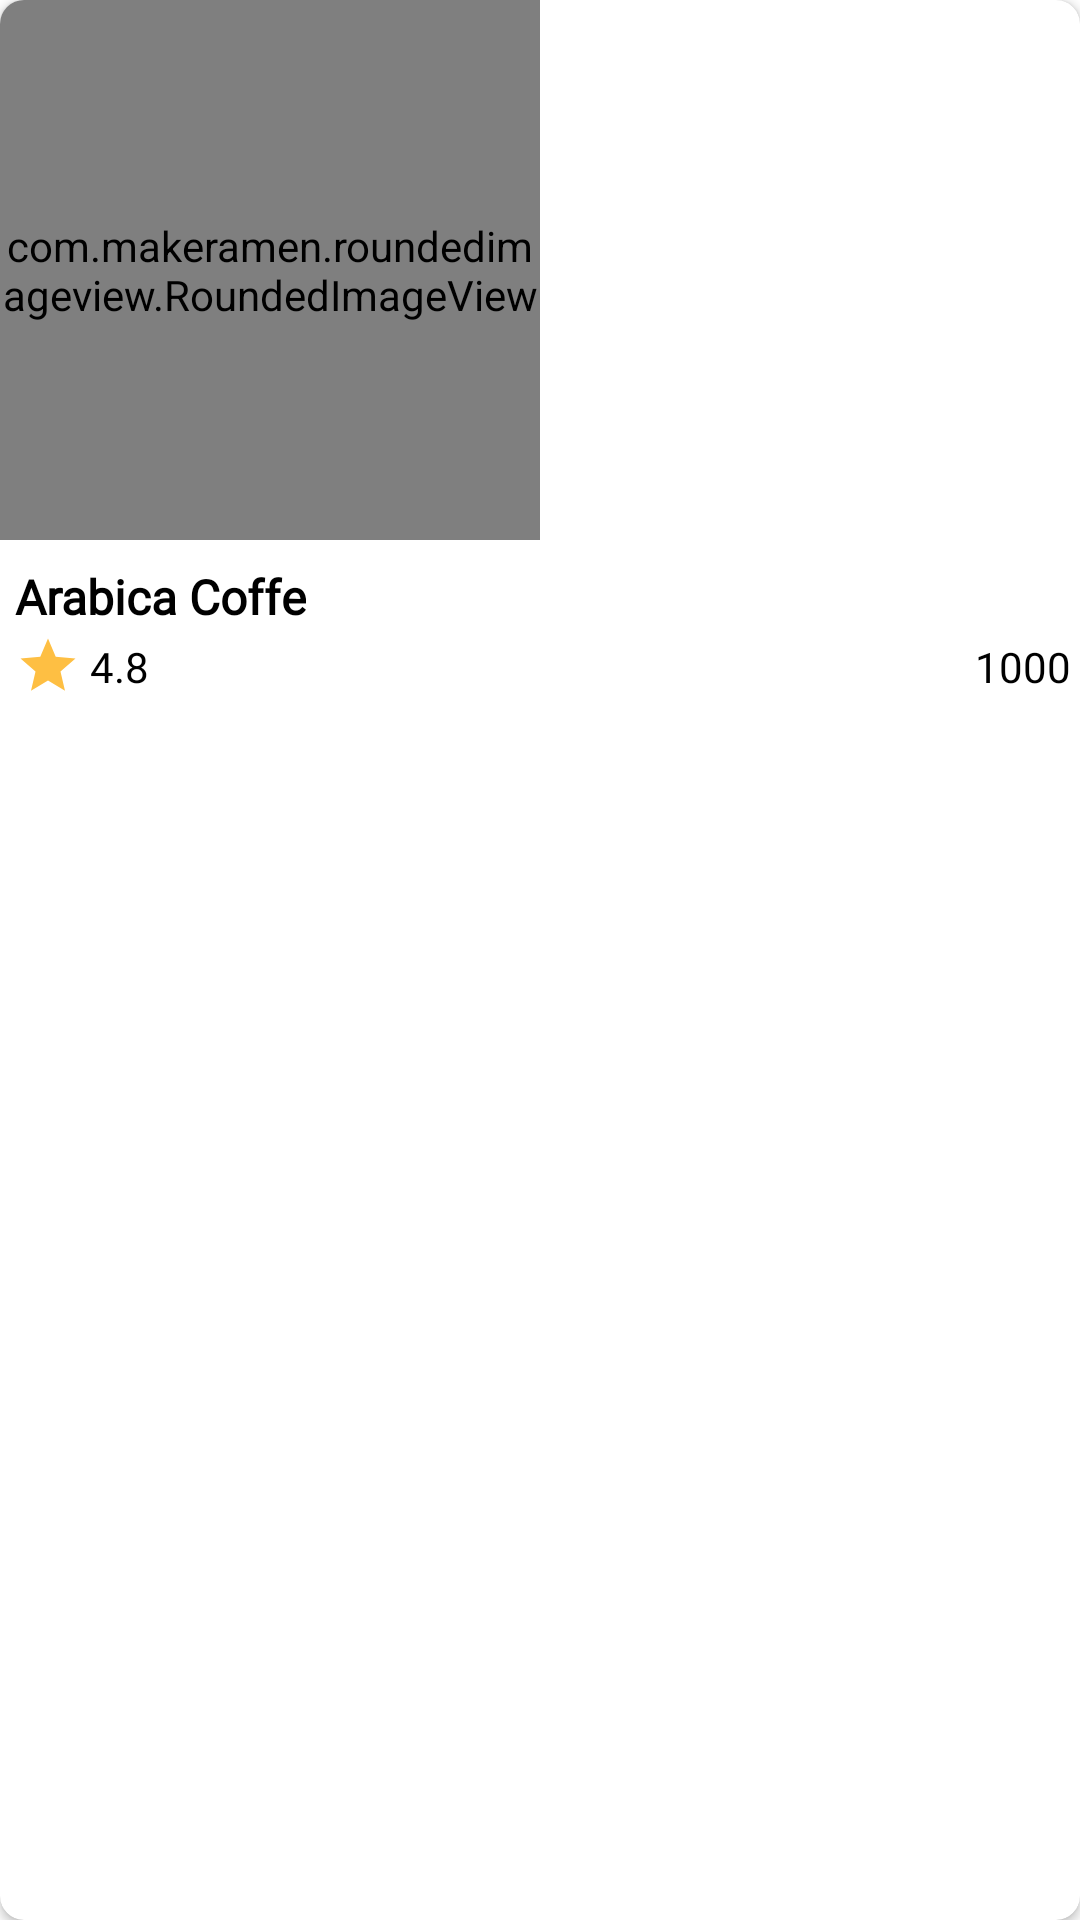

Icon bounding boxes for this 1080 x 1920 phone screenshot, format (x1, y1, x2, y2):
star: (21, 639, 75, 691)
